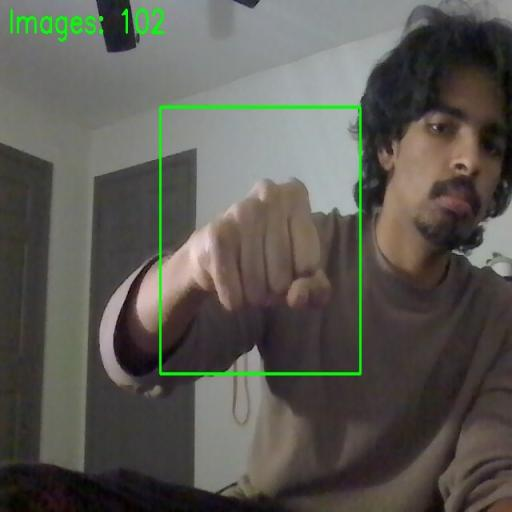backspace: (160, 107, 360, 372)
